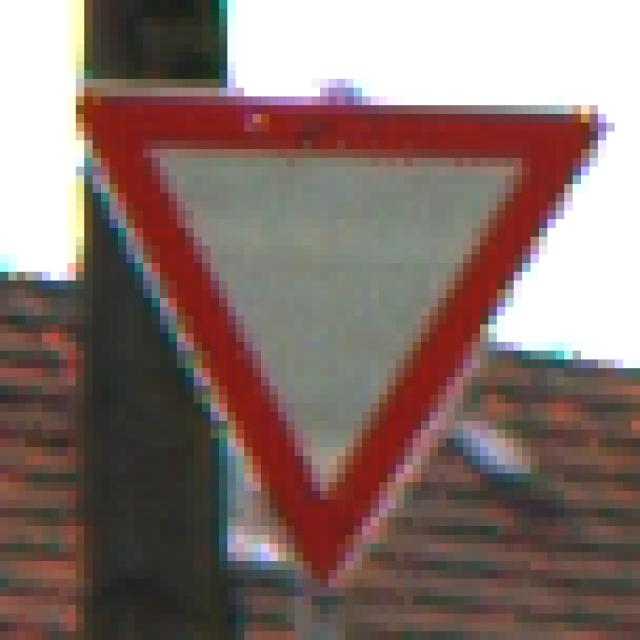Give Way: (60, 63, 590, 589)
